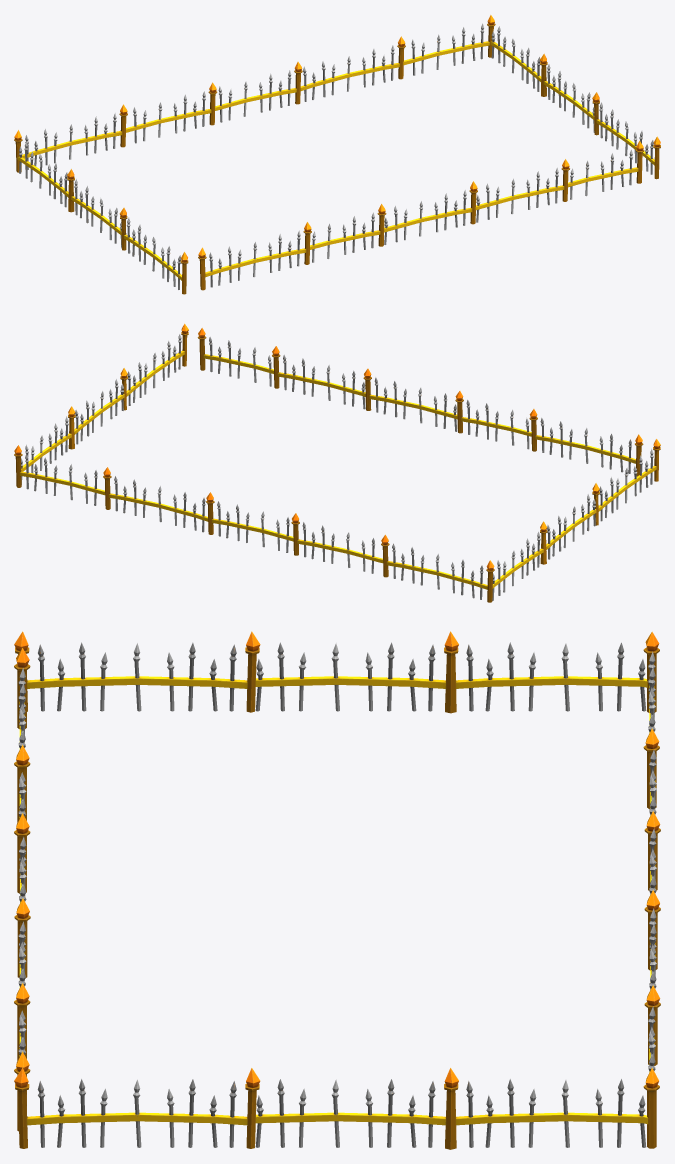
Rendered from obj_fence_base.gltf.
The picture shows the model from 3 angles, top to bottom: view 1: azimuth 30°, elevation 25°; view 2: azimuth 150°, elevation 25°; view 3: azimuth 270°, elevation 25°; orthographic projection. The views are drawn at different scales.
Parts seen in each view (by area): view 1: obj_fence_base; view 2: obj_fence_base; view 3: obj_fence_base.
Part boxes in pixels (x1=…): obj_fence_base: x1=14, y1=15, x2=660, y2=294; obj_fence_base: x1=14, y1=323, x2=660, y2=602; obj_fence_base: x1=14, y1=631, x2=660, y2=1149.
Size of what is drawn, in the model's own units: 15.9 by 1.33 by 9.8.
Materials: 1 (1 with a texture image).
